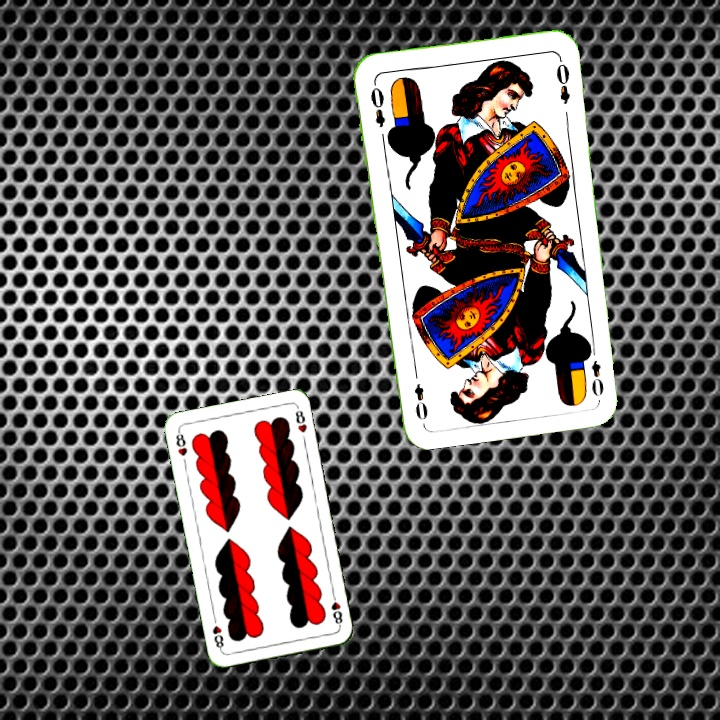EO: (584, 341, 606, 400), (366, 78, 388, 130)
H8: (327, 589, 345, 629), (172, 427, 190, 459)
